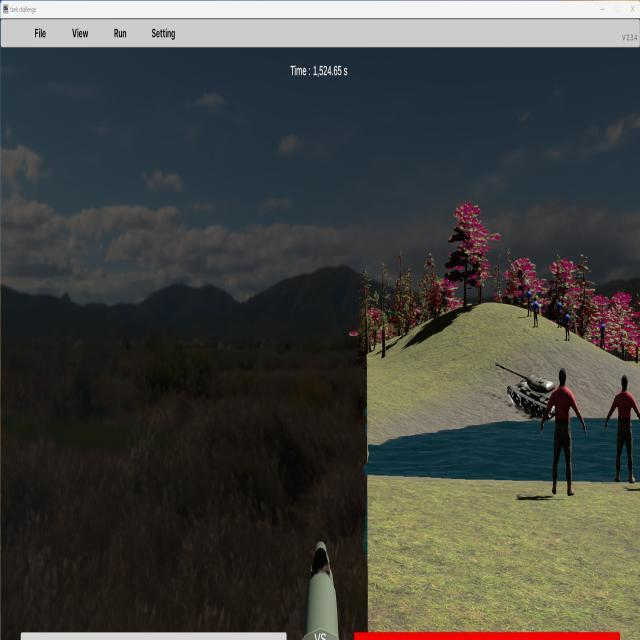Human: (541, 366, 587, 497), (604, 374, 640, 487)
Tank: (495, 362, 560, 421)
